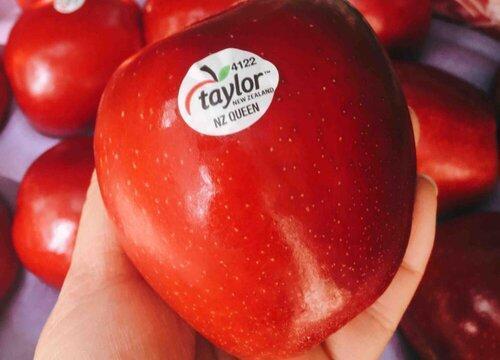apple: (83, 2, 417, 350), (2, 1, 152, 142)
